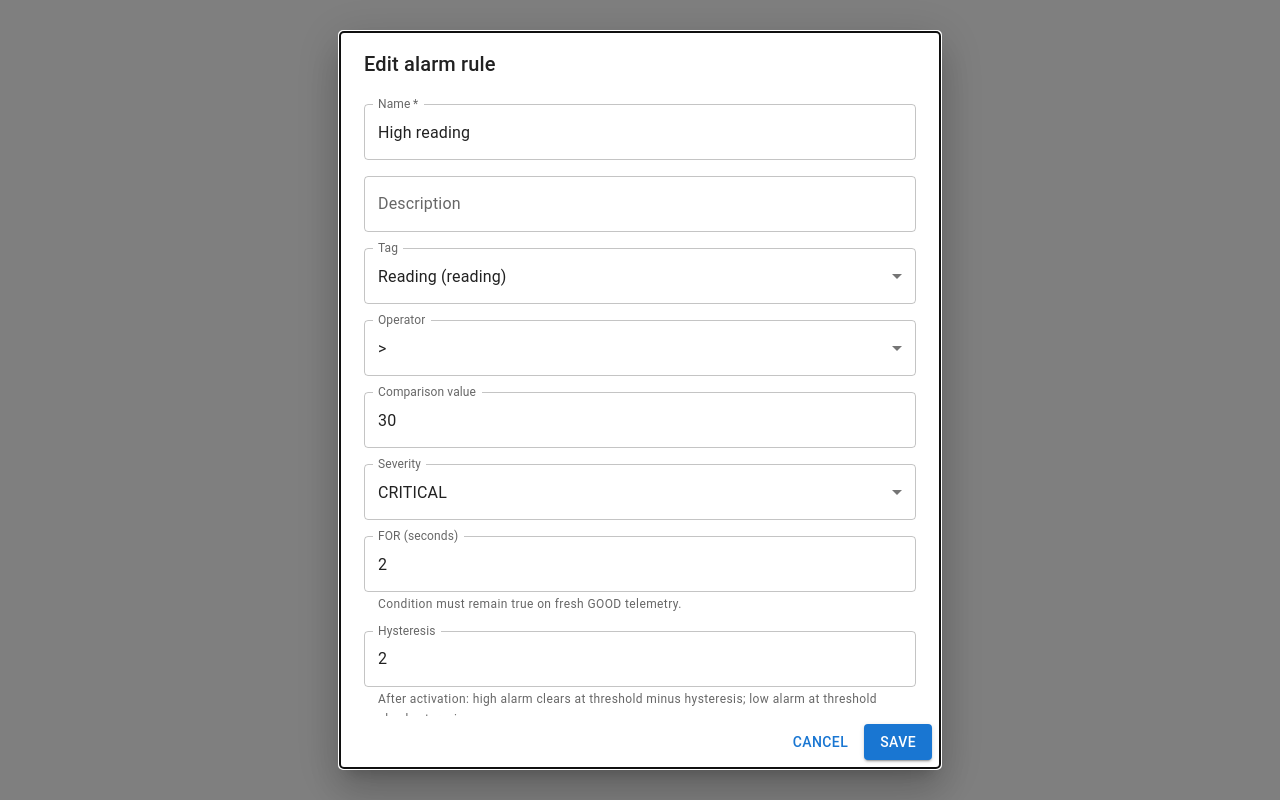
Scenario: alarm UI › shows server validation without closing
Click the button "Save". click: x=898, y=742
box: top-left (864, 724), bottom-right (932, 760)
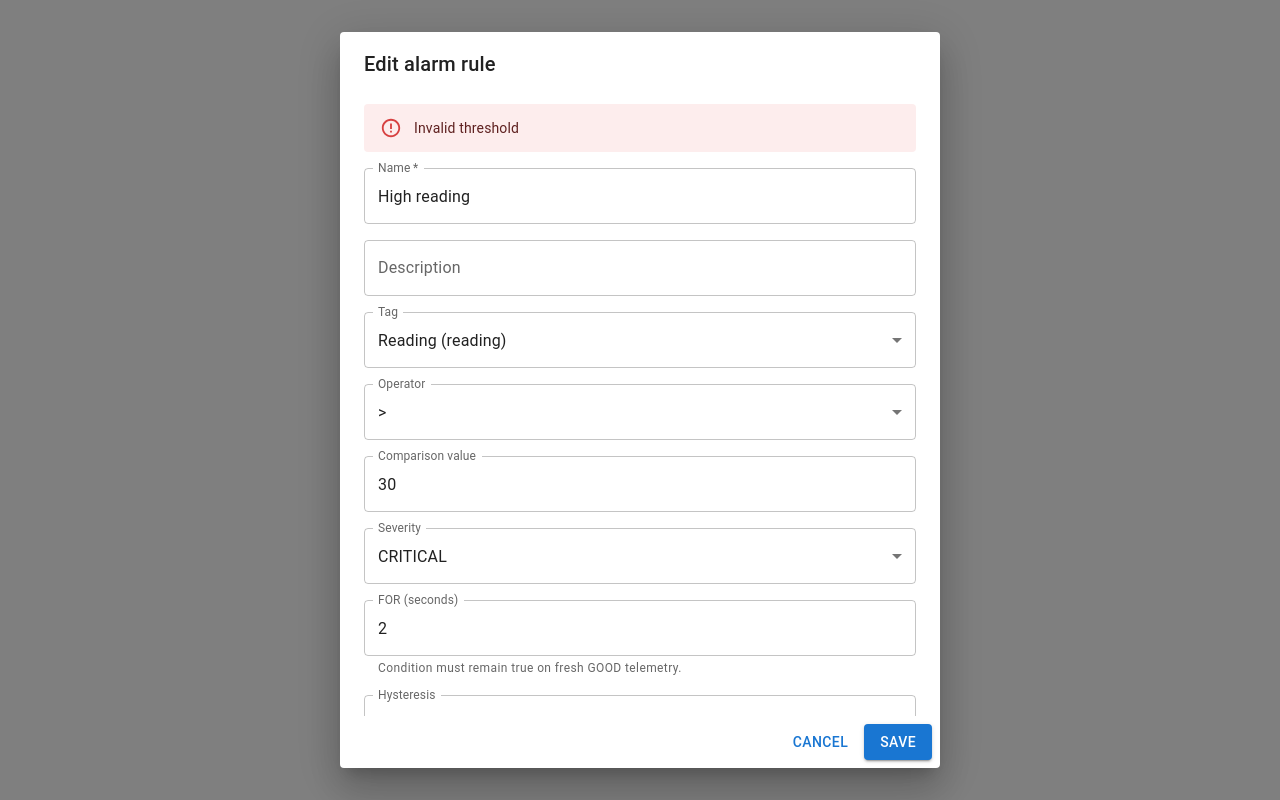
Expected: the text "Invalid threshold" is shown, top-left (414, 120), bottom-right (519, 136)
